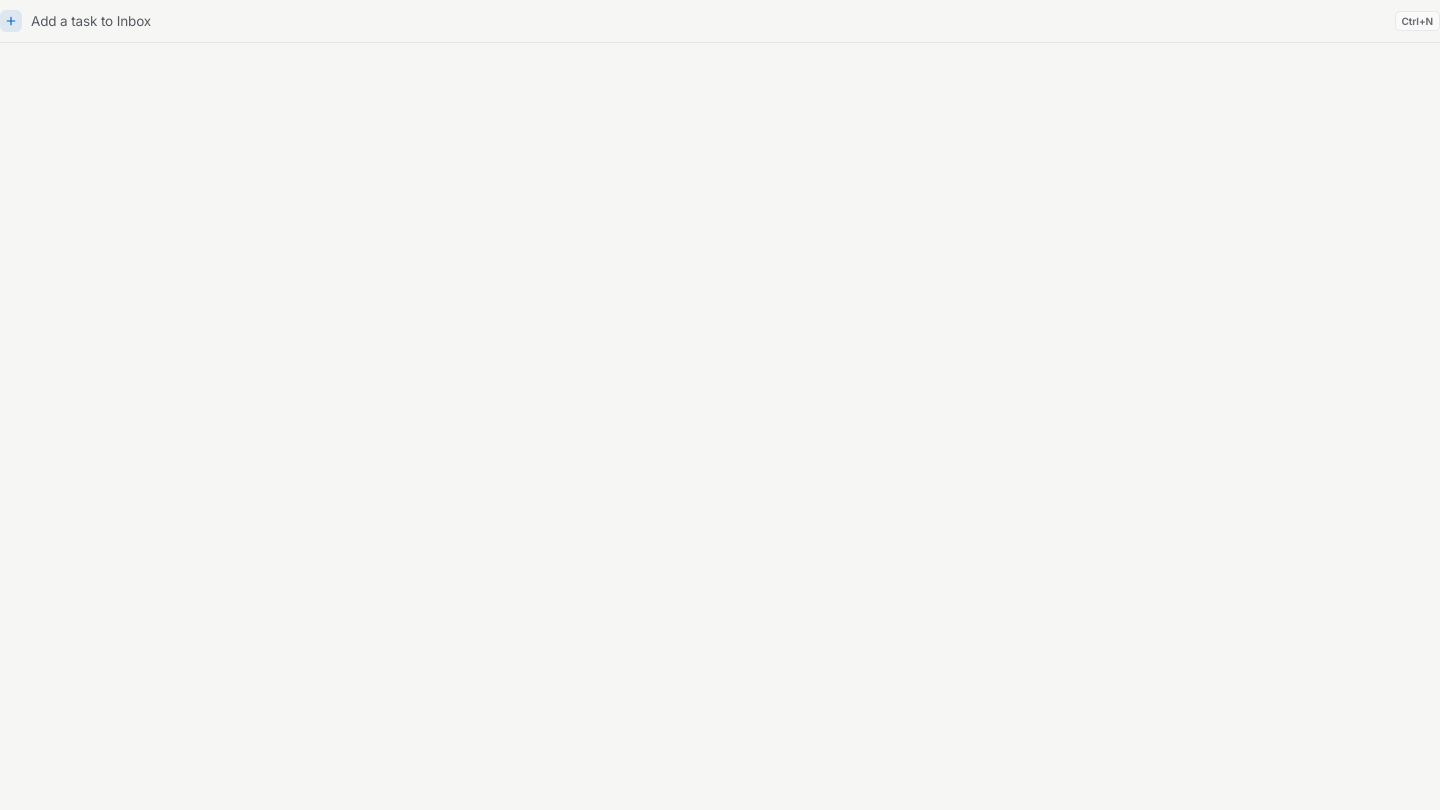
what the quick add can be told before the task exists › turns into a note, and a note is the only thing with a button (§3.2, §7.2)
Later steps or results of the test are not shown.
Step 1. Click the button "Add a task to Inbox Ctrl+N" → (91, 21), box [0,0,1439,42]
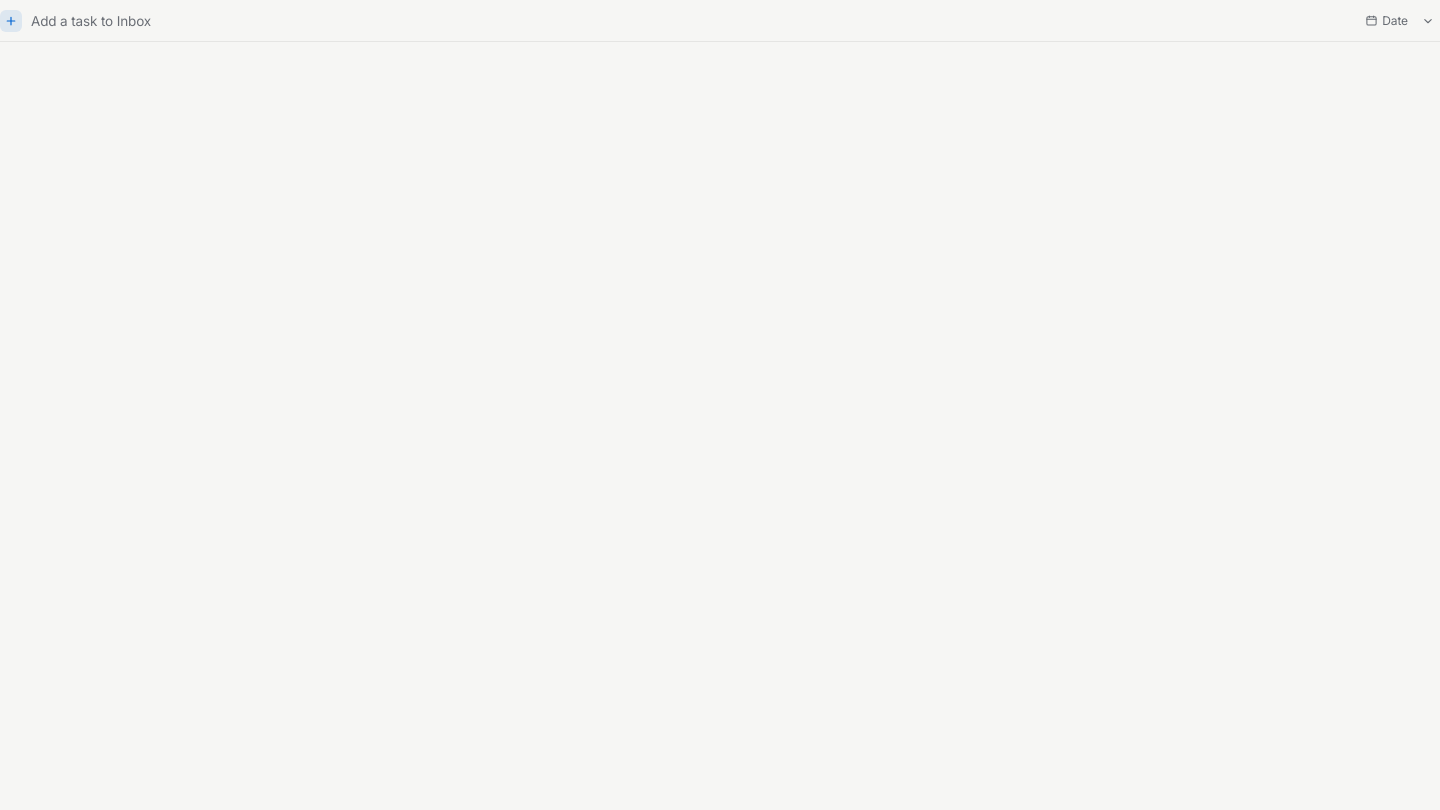
Step 2. Click the button named "More options" → (1428, 20), box [1416,8,1439,32]
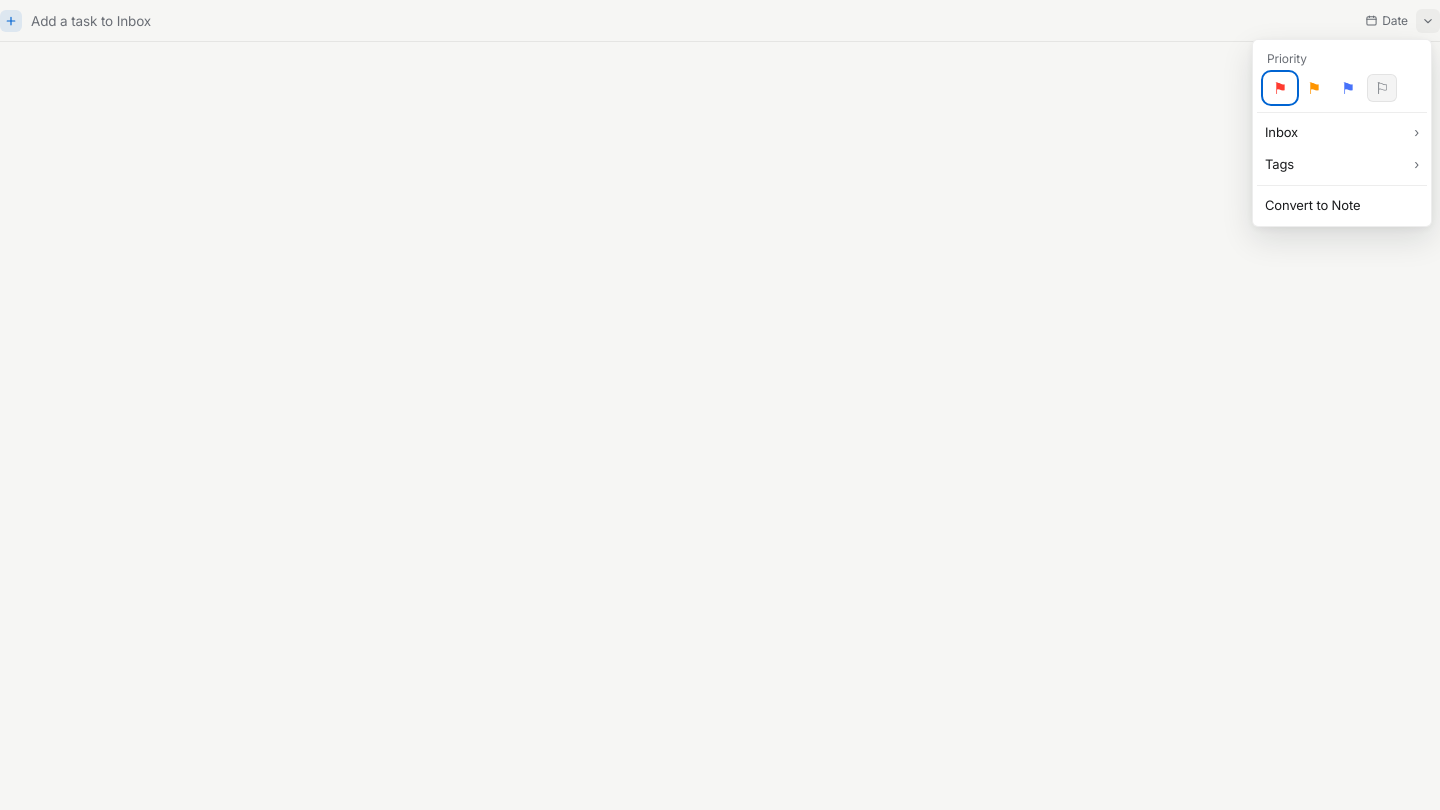
Step 3. Click the menu item "Convert to Note" → (1342, 206), box [1257,190,1427,222]
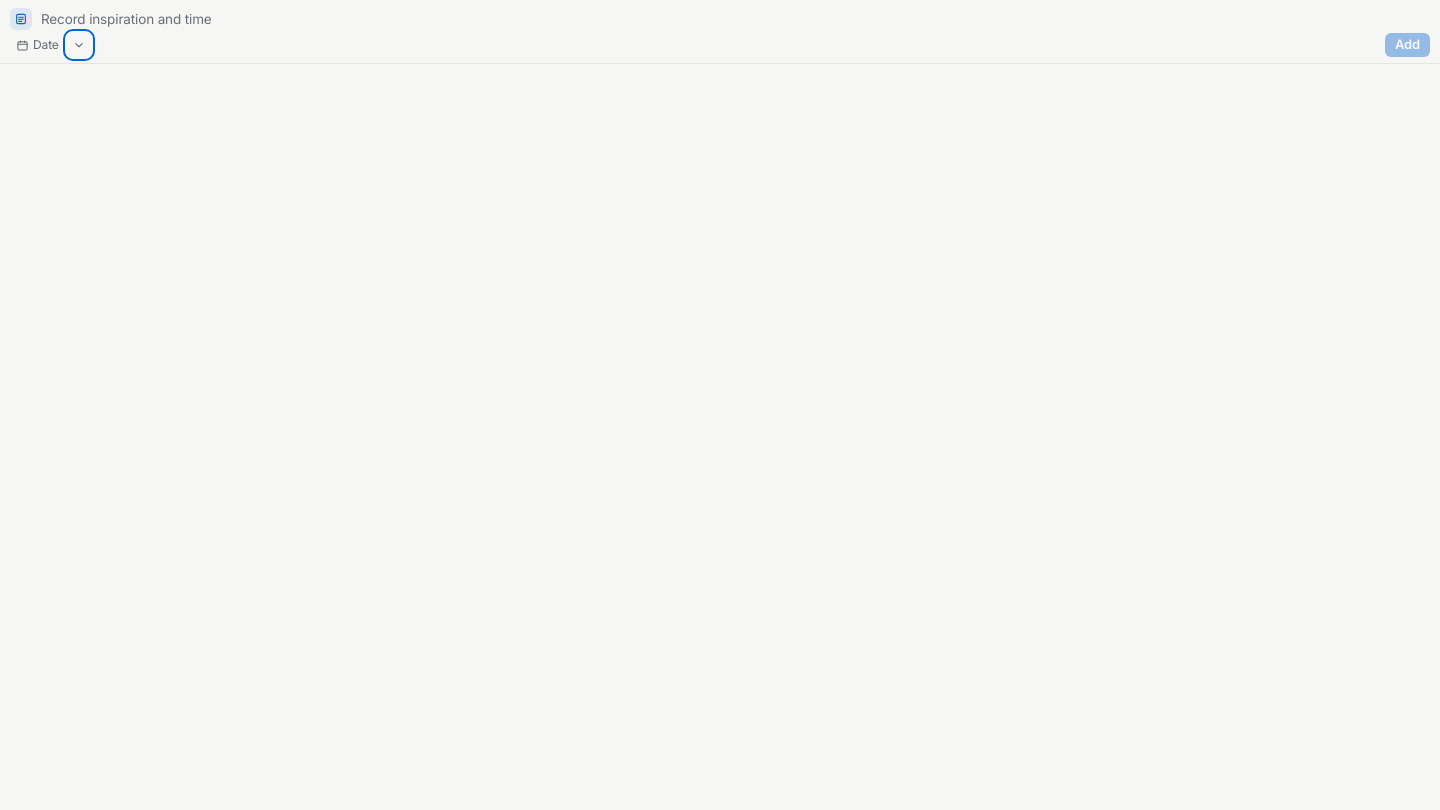
Now the button "Add" is shown, box [1385,33,1430,57]
